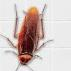cockroach: (17, 6, 40, 66)
